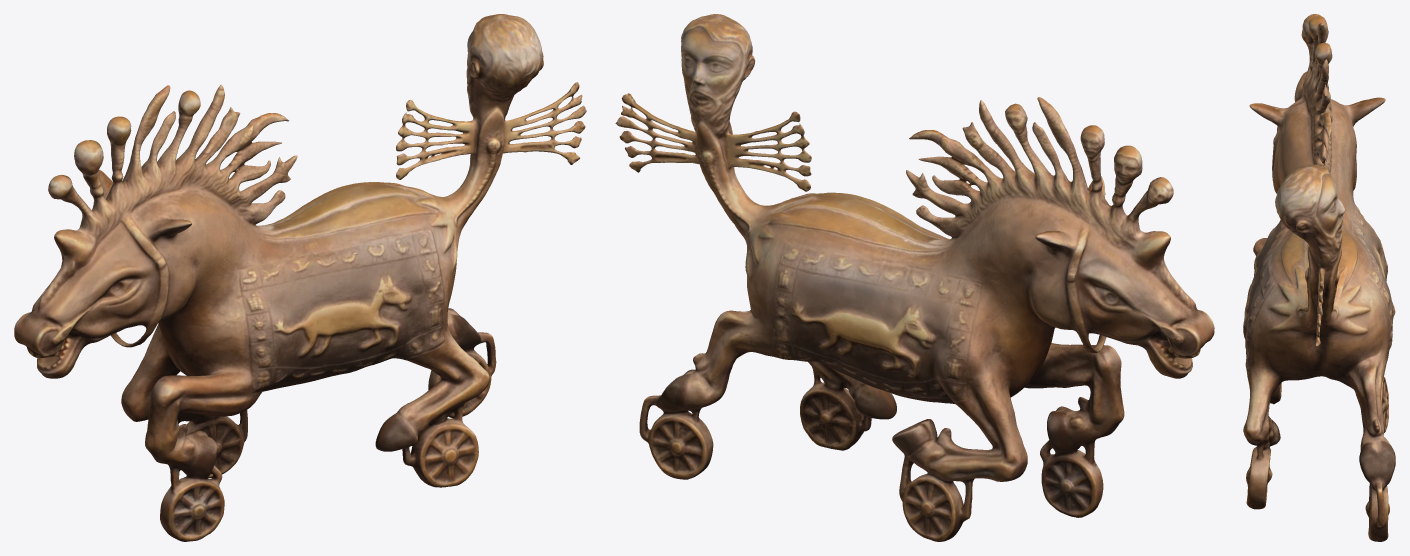
Rendered from parekh-horse.glb.
3 views of the same model, side by side, from view 1: azimuth 30°, elevation 25°; view 2: azimuth 150°, elevation 25°; view 3: azimuth 270°, elevation 25° (orthographic). The views are drawn at different scales.
Parts seen in each view (by area): view 1: Mesh; view 2: Mesh; view 3: Mesh.
Boxes of the visible parts, x1,y1,x2,y2 form: Mesh: (14, 14, 586, 541); Mesh: (615, 14, 1214, 541); Mesh: (1243, 14, 1395, 541).
Size of the model in its own units: 23.97 by 17.18 by 6.28.
1 material, 1 textured.
